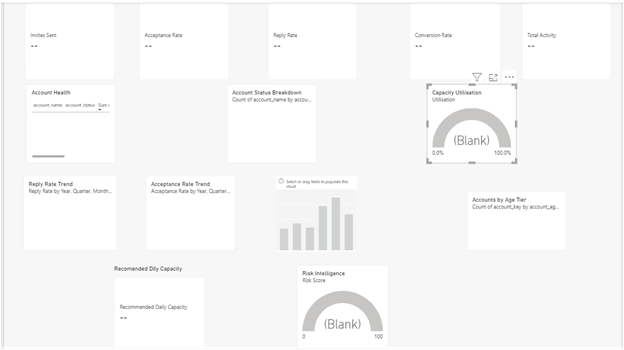

This screenshot's page, from the dashboard's own definition file:
{"tool":"powerbi","page":{"name":"Page 1","canvas":[1920,1080],"ordinal":0},"visuals":[{"type":"cardVisual","fields":{"Data":["Measures (2).Invites Sent"]},"box":[65.5,0,279.7,241.9],"z":0},{"type":"cardVisual","fields":{"Data":["Measures (2).Acceptance Rate"]},"box":[420.8,0,279.7,241.9],"z":1000},{"type":"cardVisual","fields":{"Data":["Measures (2).Reply Rate"]},"box":[821.4,0,277.2,241.9],"z":2000},{"type":"cardVisual","fields":{"Data":["Measures (2).Conversion Rate"]},"box":[1262.4,0,284.7,241.9],"z":3000},{"type":"cardVisual","fields":{"Data":["Measures (2).Total Activity"]},"box":[1612.6,0,277.2,241.9],"z":4000},{"type":"tableEx","title":"Account Health","fields":{"Values":["public dim_account.account_name","public dim_account.account_status","Sum(public dim_account.daily_capacity_limit)","public dim_account.account_age_tier","Measures (2).Utilisation"]},"box":[68.6,254.6,277.2,246.9],"z":5000},{"type":"donutChart","title":"Account Status Breakdown","fields":{"Category":["public dim_account.account_status"],"Y":["CountNonNull(public dim_account.account_name)"]},"box":[693.5,254.6,279.7,246.9],"z":6000},{"type":"gauge","title":"Risk Intelligence","fields":{"Y":["Measures (2).Risk Score"]},"box":[912,818.1,284.7,262],"z":6001},{"type":"cardVisual","title":"Recomended Dily Capacity","fields":{"Data":["Measures (2).Recommended Daily Capacity"]},"box":[343.1,819.9,282.2,259.5],"z":6002},{"type":"clusteredColumnChart","title":"Reply Rate Trend","fields":{"Category":["public dim_date.full_date.Variation.Date Hierarchy.Year","public dim_date.full_date.Variation.Date Hierarchy.Quarter","public dim_date.full_date.Variation.Date Hierarchy.Month","public dim_date.full_date.Variation.Date Hierarchy.Day"],"Y":["Measures (2).Reply Rate"]},"box":[59.6,540,292.3,234.3],"z":6003},{"type":"lineChart","title":"Acceptance Rate Trend","fields":{"Category":["public dim_date.full_date.Variation.Date Hierarchy.Year","public dim_date.full_date.Variation.Date Hierarchy.Quarter","public dim_date.full_date.Variation.Date Hierarchy.Month","public dim_date.full_date.Variation.Date Hierarchy.Day"],"Y":["Measures (2).Acceptance Rate"]},"box":[440.7,540,279.7,234.3],"z":6004},{"type":"clusteredColumnChart","title":"Accounts by Age Tier","fields":{"Category":["public dim_account.account_age_tier"],"Y":["CountNonNull(public dim_account.account_key)"]},"box":[1441.2,588.8,309.9,186.5],"z":6005},{"type":"gauge","title":"Capacity Utilisation","fields":{"Y":["Measures (2).Utilisation"]},"box":[1316.6,254.6,279.7,246.9],"z":6006},{"type":"columnChart","box":[847,541.8,252,234],"z":6007}]}

Visuals, with their boxes in screenshot pixels (x1, y1, x2, y2), scaled from the page's 1920x1080 canvas onto the 624x350 screenshot:
cardVisual - Measures (2).Invites Sent: {"left": 21, "top": 0, "right": 112, "bottom": 78}
cardVisual - Measures (2).Acceptance Rate: {"left": 137, "top": 0, "right": 228, "bottom": 78}
cardVisual - Measures (2).Reply Rate: {"left": 267, "top": 0, "right": 357, "bottom": 78}
cardVisual - Measures (2).Conversion Rate: {"left": 410, "top": 0, "right": 503, "bottom": 78}
cardVisual - Measures (2).Total Activity: {"left": 524, "top": 0, "right": 614, "bottom": 78}
"Account Health" tableEx: {"left": 22, "top": 83, "right": 112, "bottom": 163}
"Account Status Breakdown" donutChart: {"left": 225, "top": 83, "right": 316, "bottom": 163}
"Risk Intelligence" gauge: {"left": 296, "top": 265, "right": 389, "bottom": 349}
"Recomended Dily Capacity" cardVisual: {"left": 112, "top": 266, "right": 203, "bottom": 349}
"Reply Rate Trend" clusteredColumnChart: {"left": 19, "top": 175, "right": 114, "bottom": 251}
"Acceptance Rate Trend" lineChart: {"left": 143, "top": 175, "right": 234, "bottom": 251}
"Accounts by Age Tier" clusteredColumnChart: {"left": 468, "top": 191, "right": 569, "bottom": 251}
"Capacity Utilisation" gauge: {"left": 428, "top": 83, "right": 519, "bottom": 163}
columnChart: {"left": 275, "top": 176, "right": 357, "bottom": 251}
